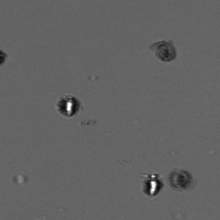Dead Cell: (169, 168, 194, 191), (151, 41, 178, 62)
Living Cell: (141, 173, 163, 197), (57, 95, 80, 117)
